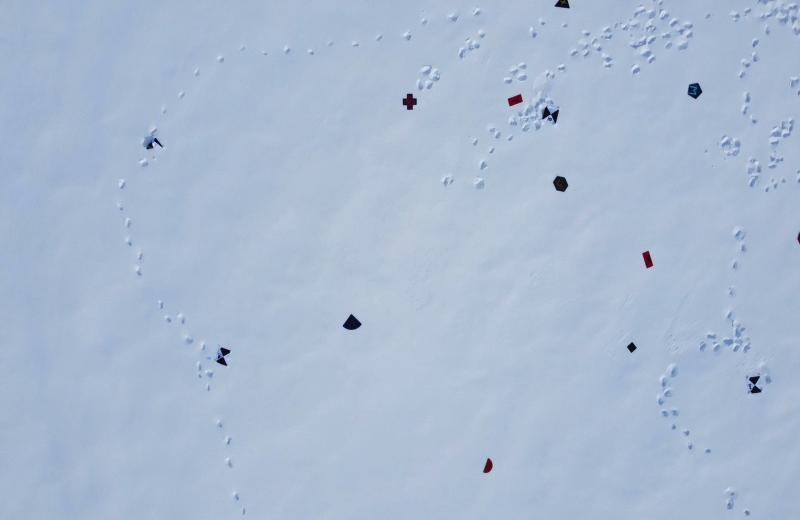Cross: (402, 92, 417, 111)
Hexagon: (552, 174, 568, 194)
Octagon: (796, 230, 800, 248)
Pentagon: (687, 80, 703, 100)
Quarter Circle: (342, 311, 362, 332)
Rectangle: (642, 250, 654, 269), (506, 94, 522, 107)
Semi Circle: (481, 457, 495, 473)
Square: (627, 341, 637, 353)
Triangle: (553, 0, 572, 10)
